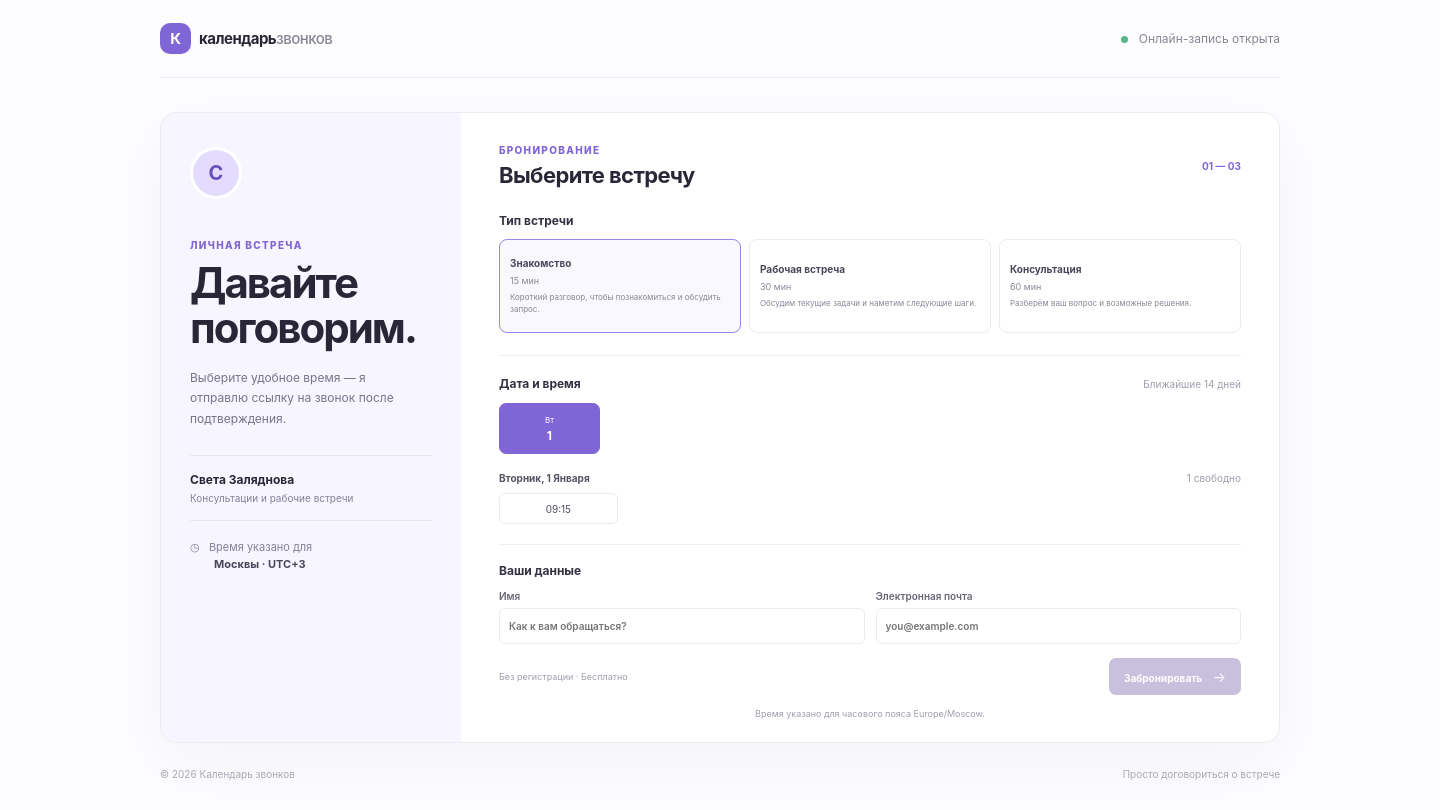
booking application routes › asks the guest to choose another time when the slot was taken
The image size is (1440, 810).
Click the button "09:15" at (558, 508), box x1=499 y1=493 x2=618 y2=524
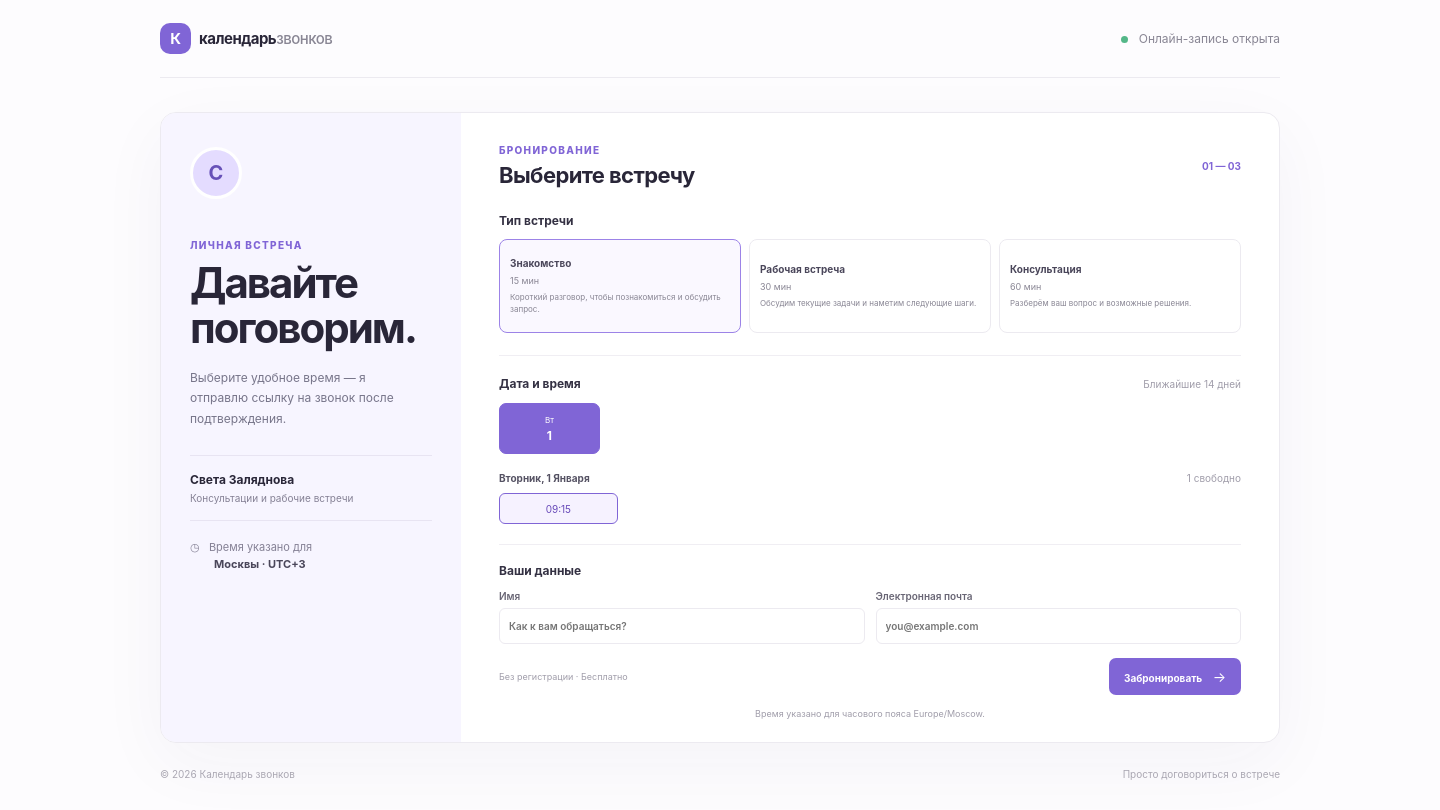
Type "Анна" into the field labelled "Имя" at (682, 626), box x1=499 y1=608 x2=864 y2=644
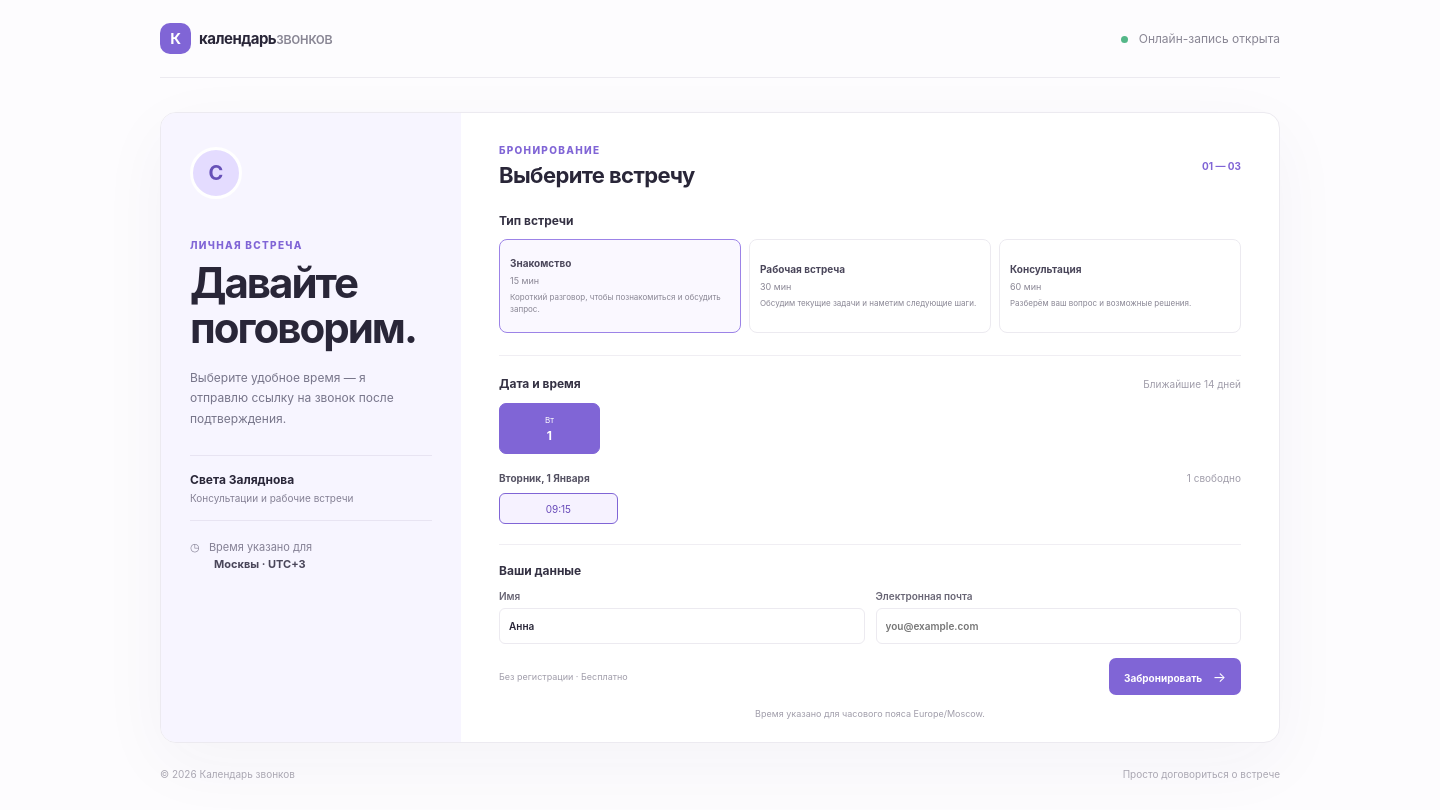
Type "anna@example.com" into the field labelled "Электронная почта" at (1058, 626), box x1=876 y1=608 x2=1241 y2=644
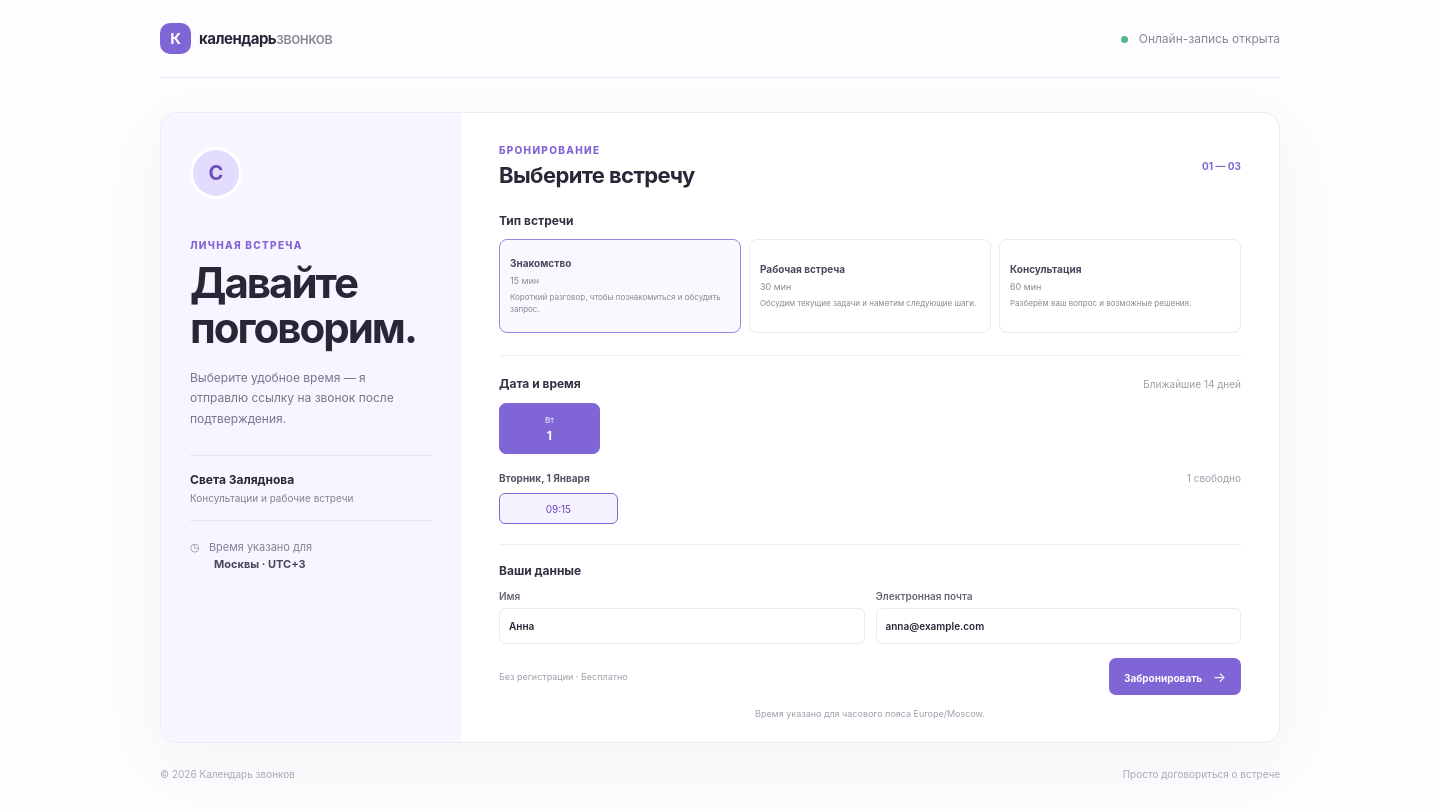
Click the button "Забронировать →" at (1175, 676), box x1=1109 y1=658 x2=1241 y2=695
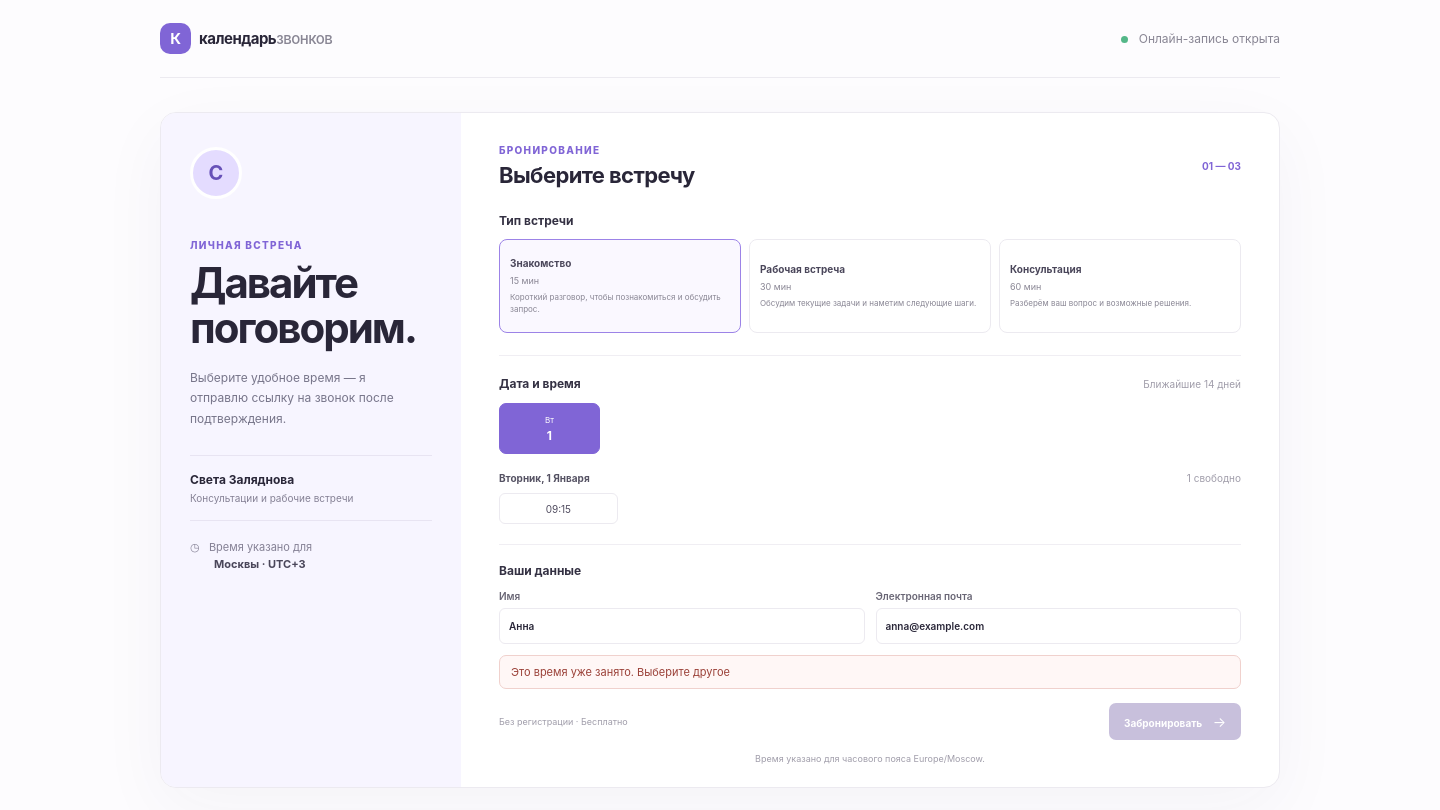
Check: the message reads "Это время уже занято. Выберите другое", box x1=511 y1=665 x2=730 y2=679
